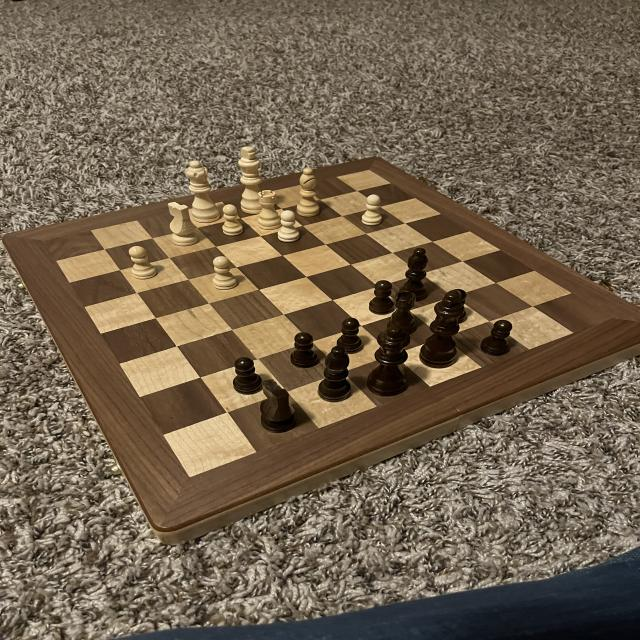bishop: (315, 344, 360, 406), (398, 246, 433, 302)
black-bishop: (418, 290, 472, 375)
black-king: (256, 376, 301, 434)
black-knight: (480, 319, 516, 358), (438, 286, 473, 326), (288, 331, 322, 368), (232, 356, 264, 394), (333, 317, 365, 352), (366, 278, 395, 314)
black-pawn: (363, 325, 415, 395)
black-queen: (385, 286, 421, 337)
black-rook: (290, 163, 324, 220)
white-bishop: (232, 144, 272, 217)
white-king: (163, 198, 203, 250)
white-knight: (122, 242, 159, 280), (212, 254, 240, 293), (220, 202, 247, 238), (274, 206, 300, 243), (358, 192, 384, 229)
white-pawn: (182, 158, 224, 226)
white-queen: (254, 189, 282, 230)
